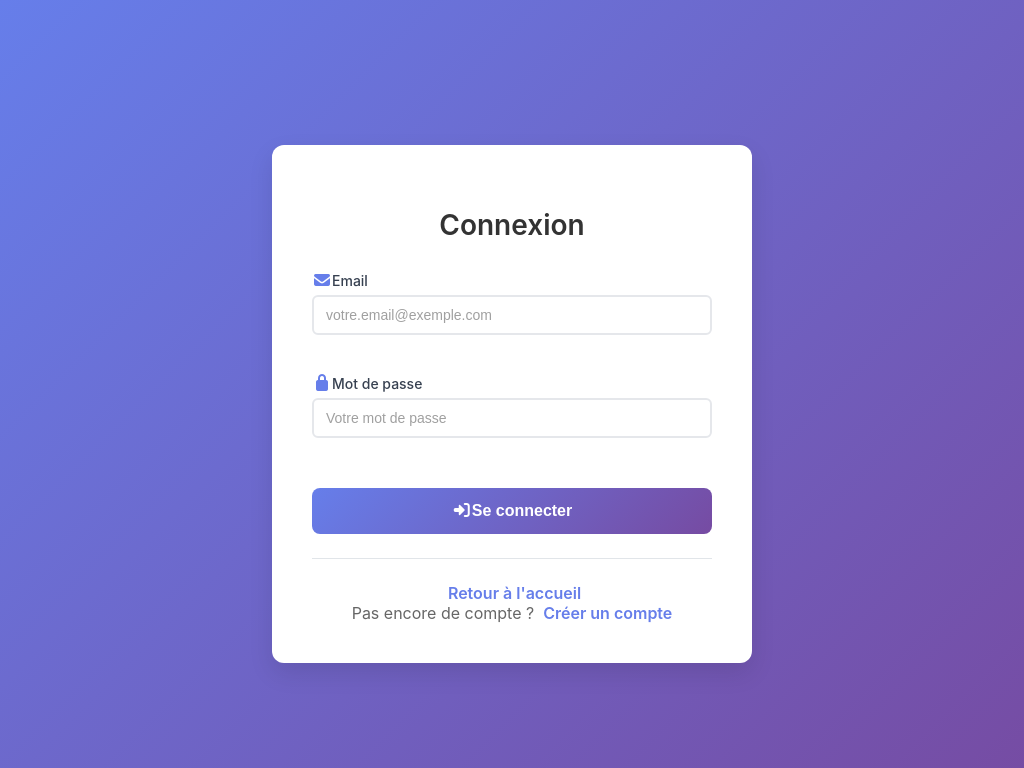
Test: Login Component › shows loading state when submitting
Type "test@example.com" into the field labelled "Email".
click(512, 315); type("test@example.com")  # box [312,295,712,335]
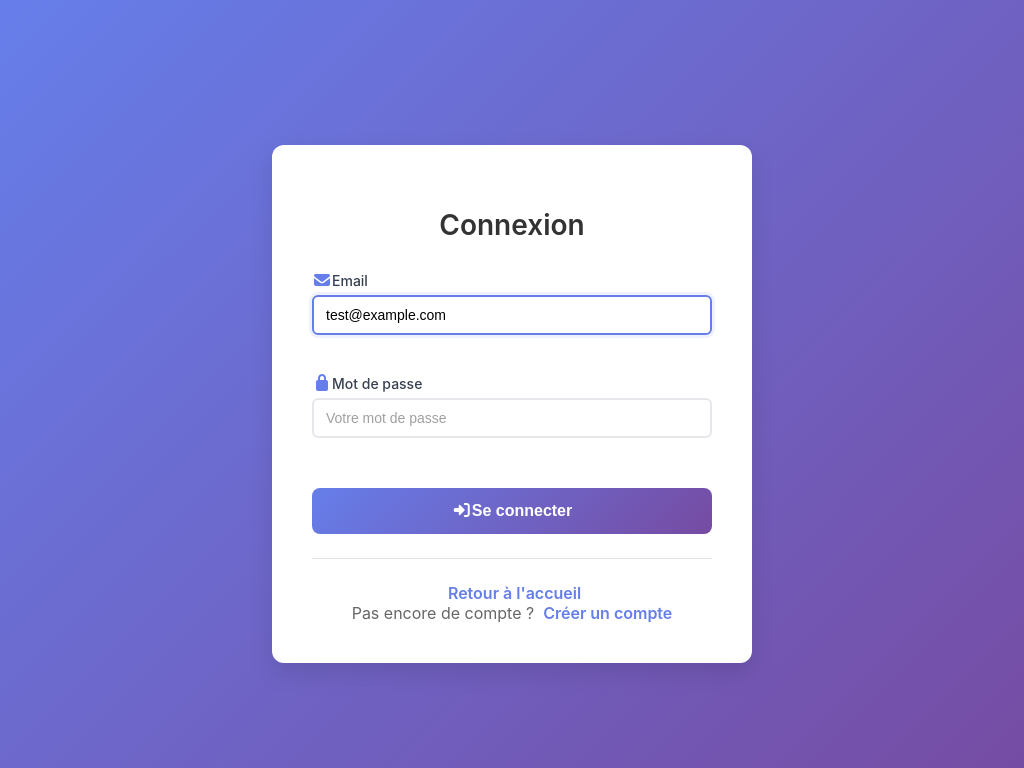
Type "password123" into the password field labelled "Mot de passe".
click(512, 418); type("password123")  # box [312,398,712,438]
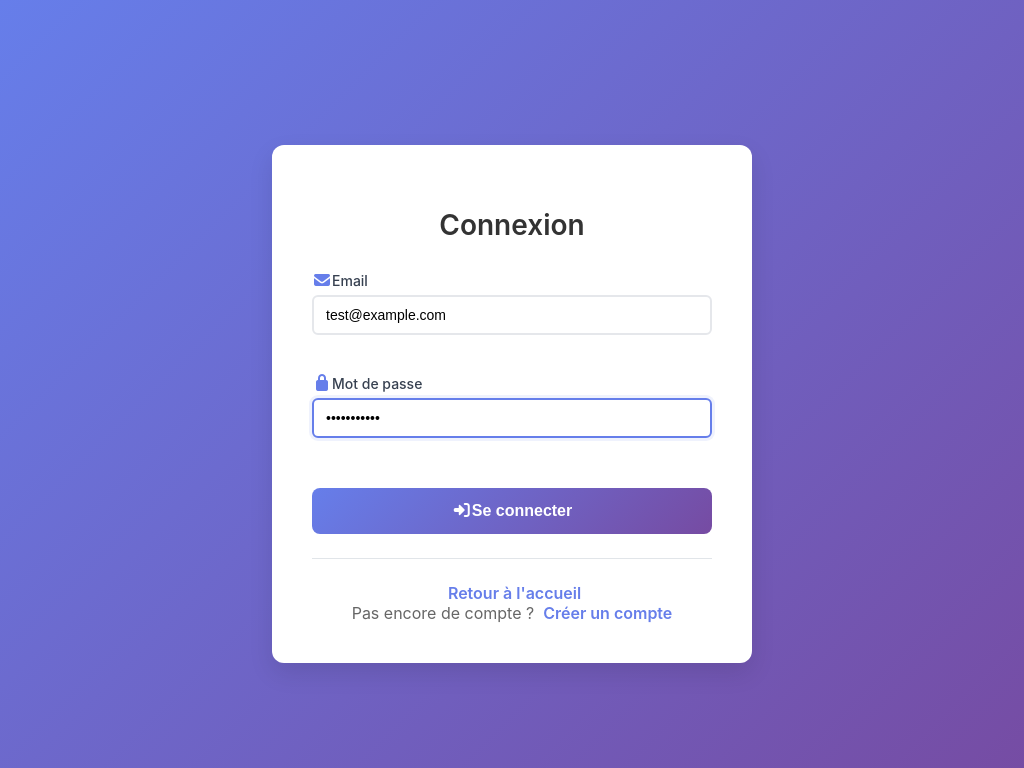
Click the button "Se connecter".
click(512, 511)  # box [312,488,712,534]
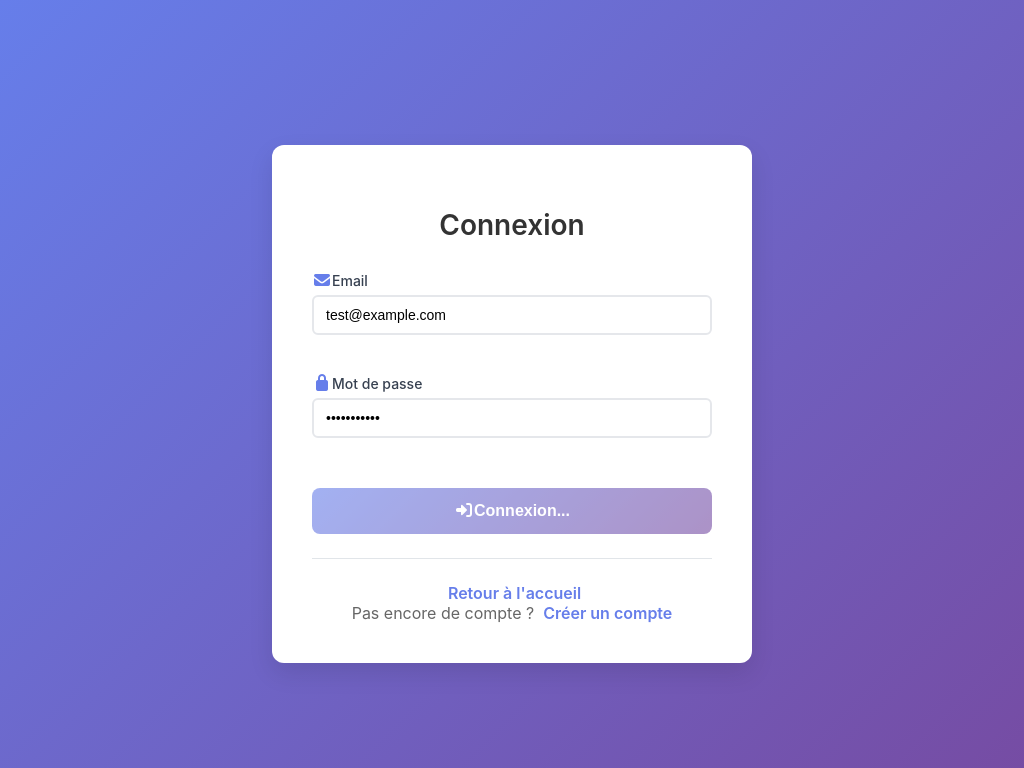
Result: the button "Connexion..." is disabled at [312,488,712,534]
